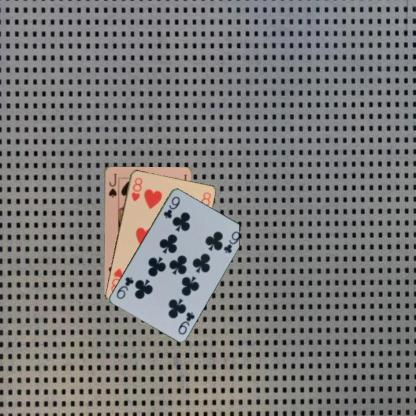8h: (129, 175, 143, 202)
9c: (160, 194, 182, 220), (175, 309, 196, 336)
Js: (106, 171, 118, 198)
